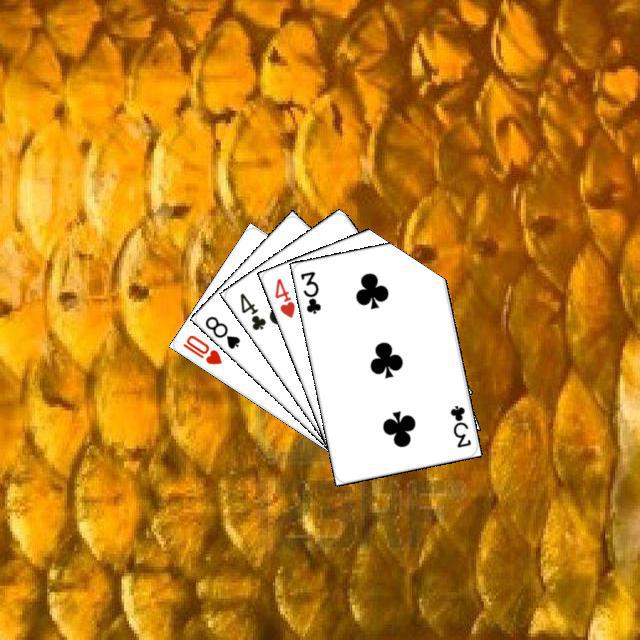10h: (178, 330, 224, 366)
3c: (295, 266, 323, 316), (445, 400, 473, 449)
4c: (235, 288, 268, 332)
4h: (270, 273, 297, 320)
8s: (200, 311, 242, 351)
